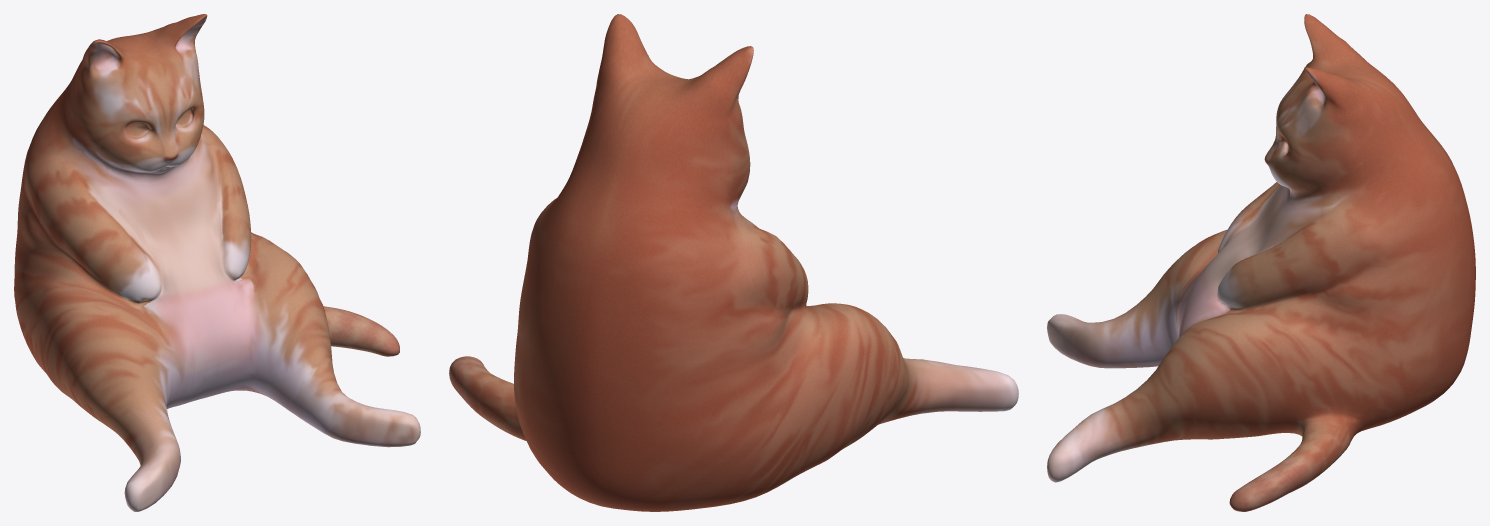
Rendered from cat.obj.
3 renders of one model, left to right at view 1: azimuth 30°, elevation 25°; view 2: azimuth 150°, elevation 25°; view 3: azimuth 270°, elevation 25°, orthographic. The views are drawn at different scales.
Visible parts, largest first — view 1: body_Mesh.001; view 2: body_Mesh.001; view 3: body_Mesh.001.
Part boxes in pixels (left/top/right/bottom): body_Mesh.001: left=14, top=14, right=420, bottom=511; body_Mesh.001: left=449, top=14, right=1018, bottom=511; body_Mesh.001: left=1047, top=14, right=1475, bottom=511.
Size of the model in its own units: 2.36 by 2.26 by 2.36.
1 material, 1 textured.
